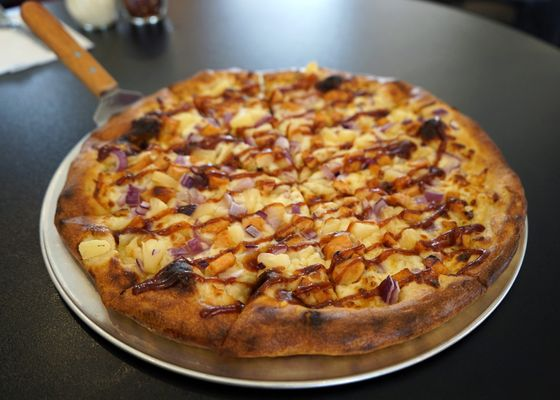curry: (1, 0, 544, 398)
sandwich: (58, 65, 522, 360)
